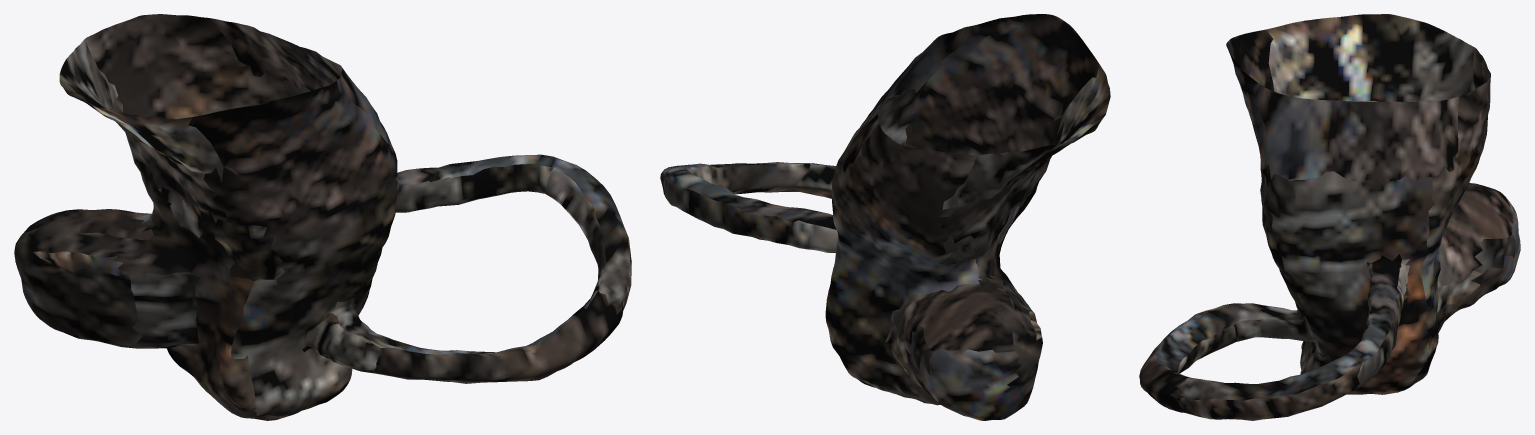
File: CaveTest 1.fbx
The picture shows the model from 3 angles, left to right: view 1: azimuth 30°, elevation 25°; view 2: azimuth 150°, elevation 25°; view 3: azimuth 270°, elevation 25°; orthographic projection. The views are drawn at different scales.
Visible parts, largest first — view 1: CaveBase; view 2: CaveBase; view 3: CaveBase.
Part boxes in pixels (x1,y1,x2,y2): CaveBase: [14, 14, 631, 420]; CaveBase: [660, 14, 1110, 420]; CaveBase: [1139, 14, 1520, 420].
Bounding box in the file's own units: 17448 × 12471 × 13385.
